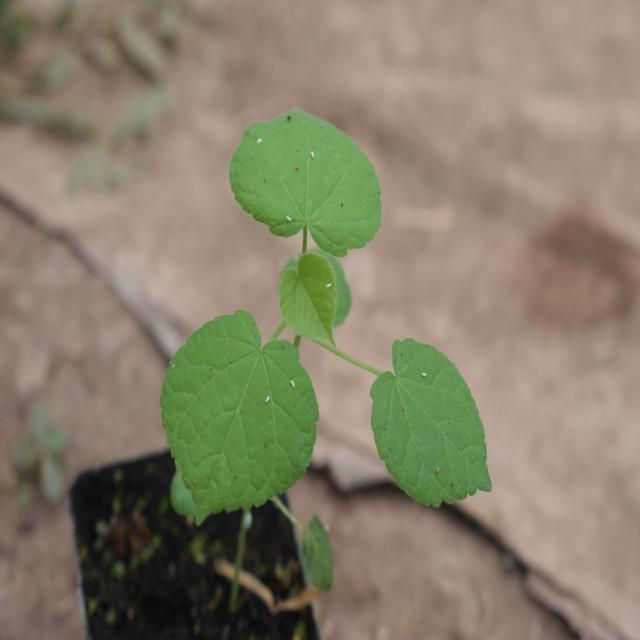abutilon theophrasti: (150, 84, 503, 546)
